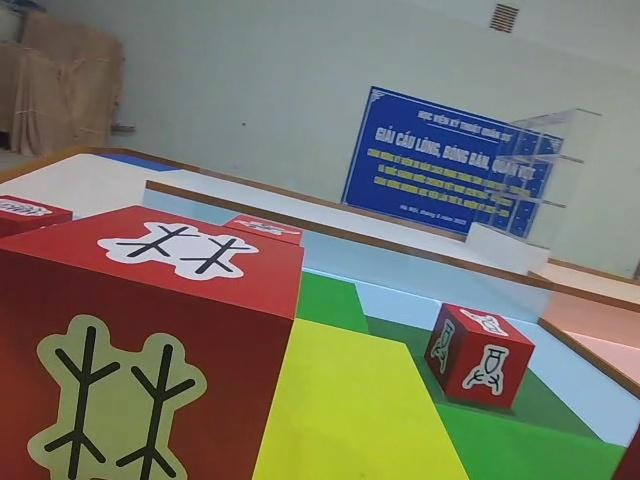R2 Real: (0, 201, 306, 480), (421, 300, 537, 413)
